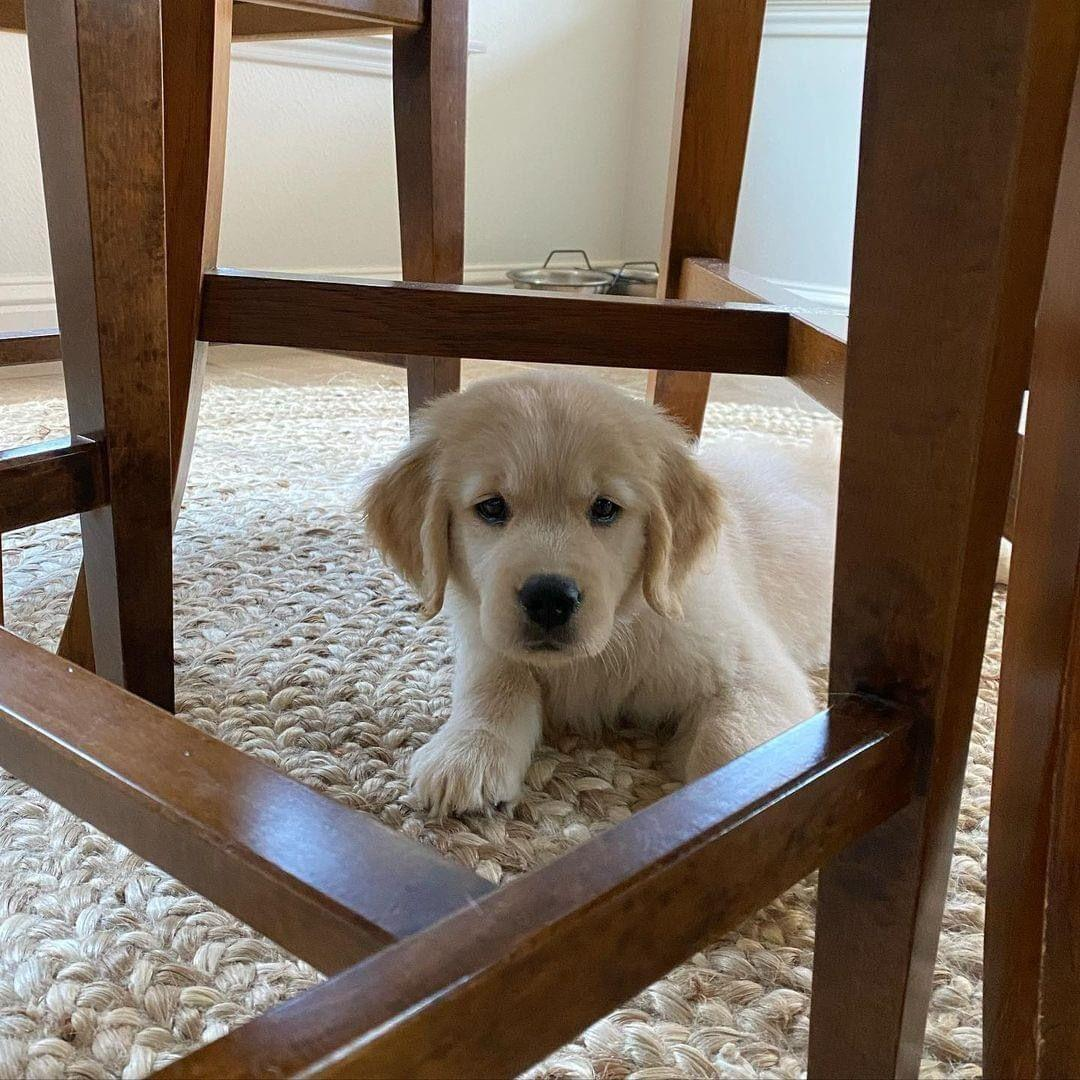puppy-dog: (358, 370, 842, 820)
